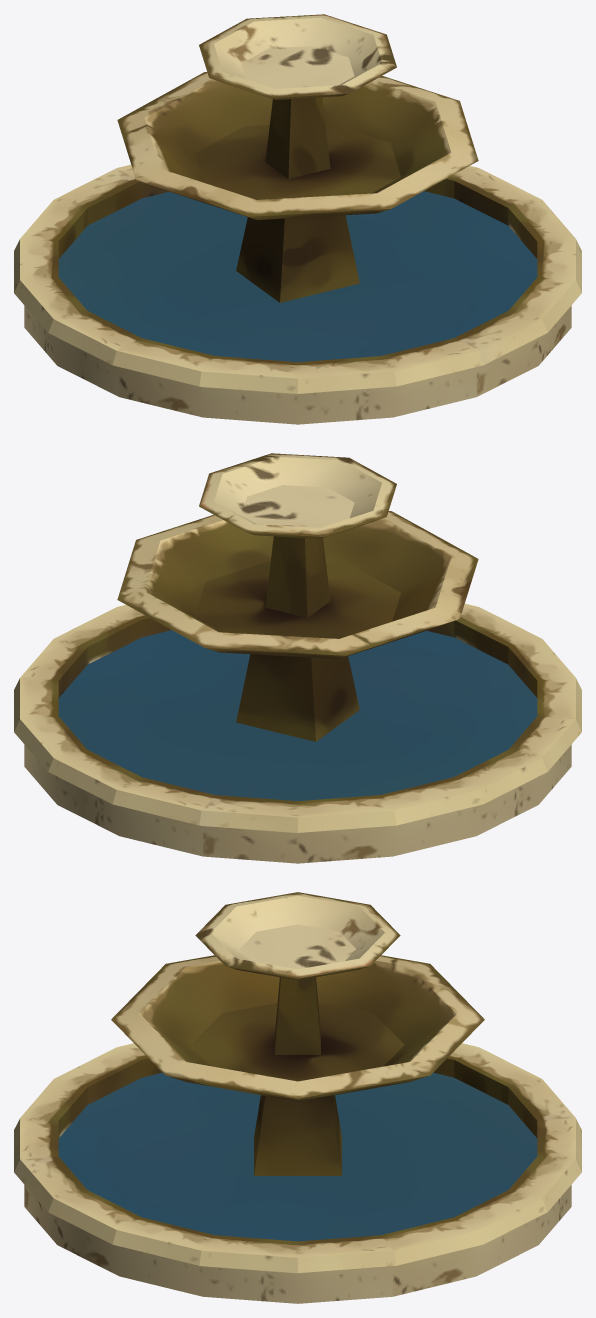
Rendered from Rome_Village_Props_22.FBX.
3 views of the same model, one above another, from view 1: azimuth 30°, elevation 25°; view 2: azimuth 150°, elevation 25°; view 3: azimuth 270°, elevation 25° (orthographic).
Parts seen in each view (by area): view 1: Rome_Village_Props_22; view 2: Rome_Village_Props_22; view 3: Rome_Village_Props_22.
Part boxes in pixels (<box>): Rome_Village_Props_22: <box>14,14,581,424</box>; Rome_Village_Props_22: <box>14,453,581,863</box>; Rome_Village_Props_22: <box>14,892,581,1303</box>.
Size of the model in its own units: 376 by 182 by 370.
